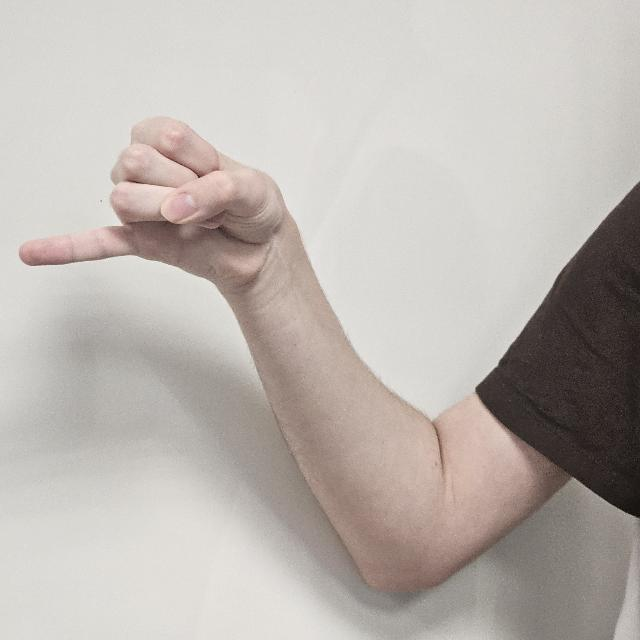Esquerda: (16, 100, 282, 334)
